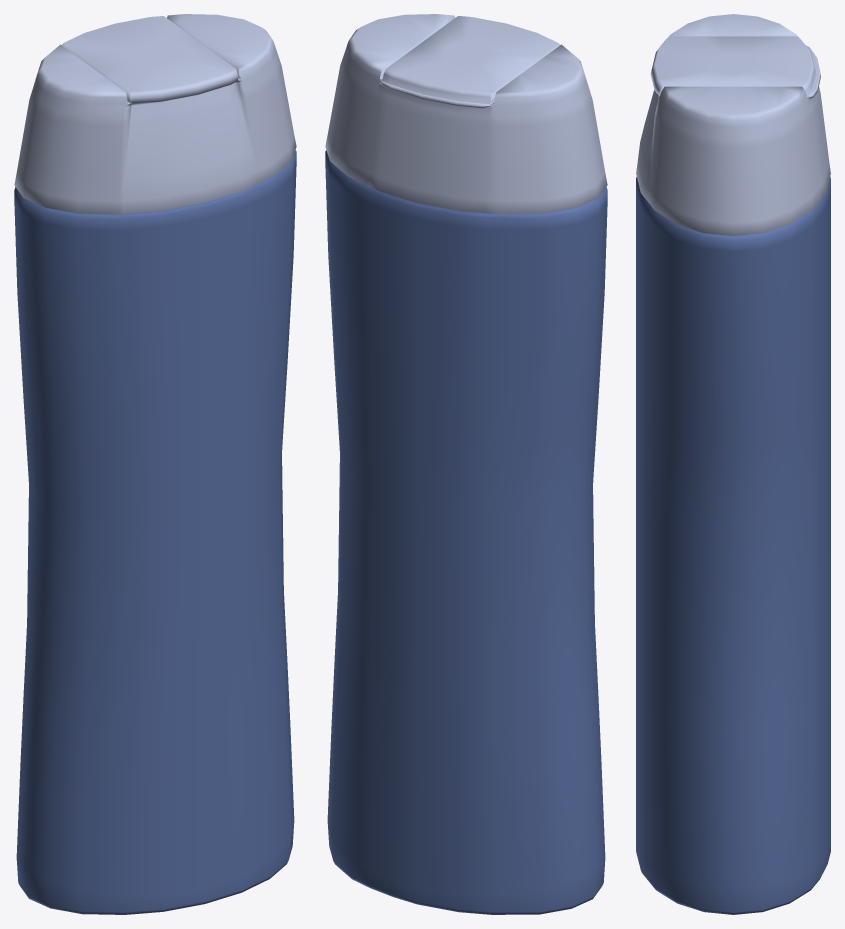
The model's file is Shampoo.fbx.
3 renders of one model, left to right at view 1: azimuth 30°, elevation 25°; view 2: azimuth 150°, elevation 25°; view 3: azimuth 270°, elevation 25°, orthographic. The views are drawn at different scales.
Parts seen in each view (by area): view 1: polySurface1, polySurface2; view 2: polySurface1, polySurface2; view 3: polySurface1, polySurface2.
Boxes of the visible parts, x1=… form: polySurface1: x1=14, y1=150, x2=296, y2=914; polySurface2: x1=14, y1=14, x2=296, y2=214; polySurface1: x1=325, y1=150, x2=607, y2=914; polySurface2: x1=325, y1=14, x2=607, y2=213; polySurface1: x1=636, y1=177, x2=830, y2=914; polySurface2: x1=636, y1=14, x2=830, y2=236.
Size of the model in its own units: 1.02 by 3.01 by 0.6715.
